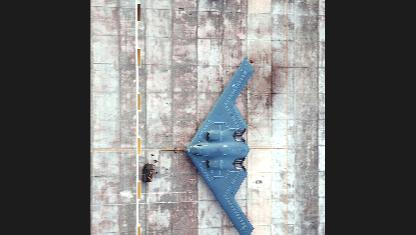B1: (185, 57, 255, 234)
